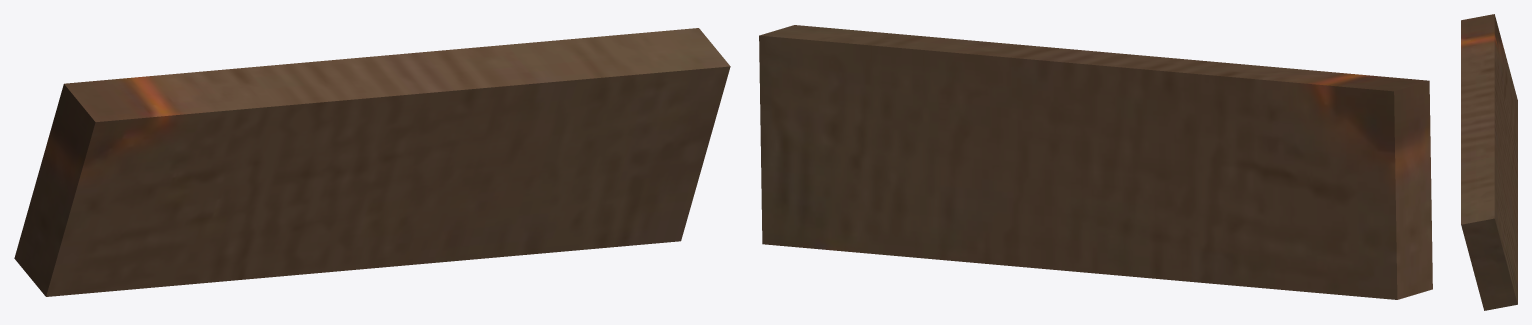
The model's file is fan_left__blade_8.glb.
The picture shows the model from 3 angles, left to right: view 1: azimuth 30°, elevation 25°; view 2: azimuth 150°, elevation 25°; view 3: azimuth 270°, elevation 25°; orthographic projection. The views are drawn at different scales.
Visible parts, largest first — view 1: geometry_0; view 2: geometry_0; view 3: geometry_0.
Part boxes in pixels (x1=…): geometry_0: x1=14, y1=28, x2=730, y2=296; geometry_0: x1=759, y1=25, x2=1432, y2=299; geometry_0: x1=1461, y1=14, x2=1517, y2=310.
Bounding box in the file's own units: 0.0289 × 0.0124 × 0.00428.
Materials: 1 (1 with a texture image).
